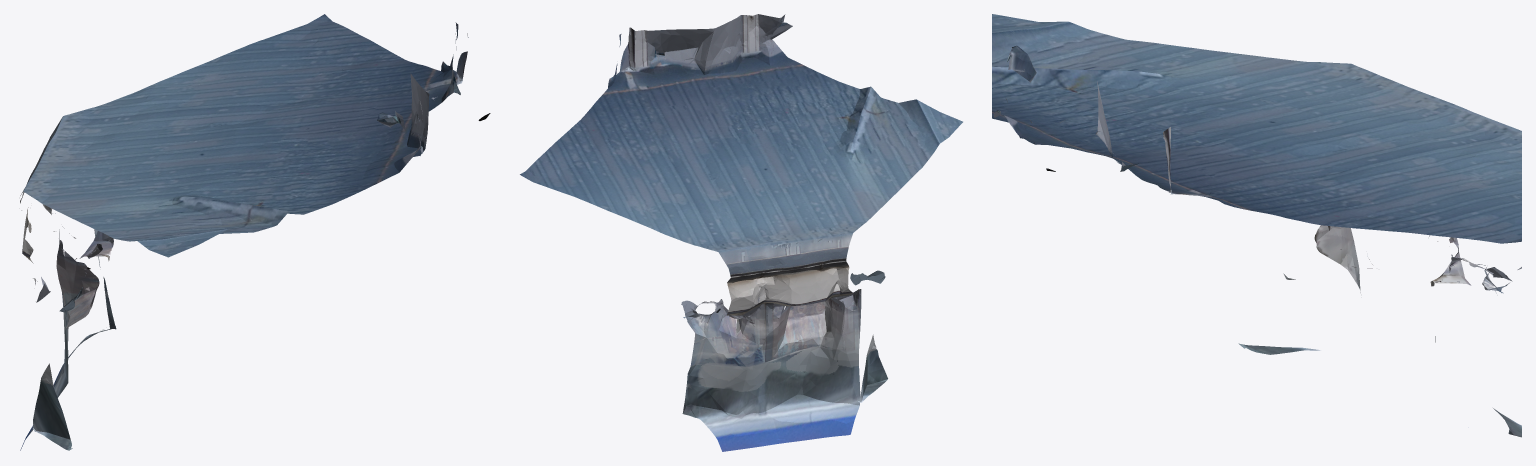
3 views of the same model, side by side, from view 1: azimuth 30°, elevation 25°; view 2: azimuth 150°, elevation 25°; view 3: azimuth 270°, elevation 25° (orthographic). The views are drawn at different scales.
Size of the model in its own units: 4.18 by 4.18 by 4.18.
Materials: 3 (3 with a texture image).
